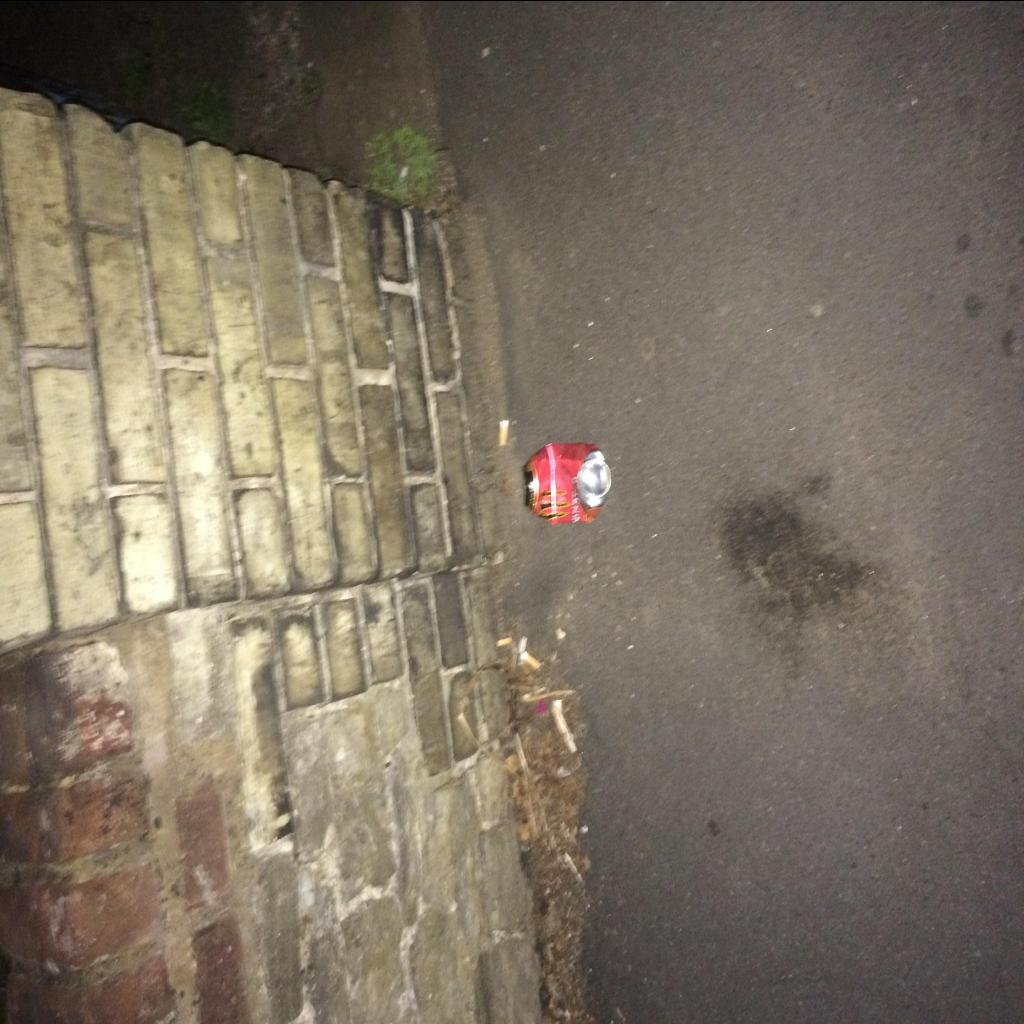Cigarette: (522, 650, 542, 669), (500, 420, 510, 445)
Drink can: (524, 443, 610, 523)
